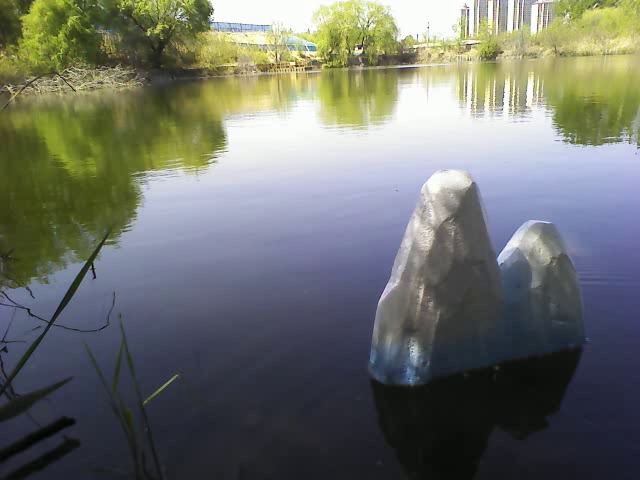iceberg: (368, 156, 588, 387)
